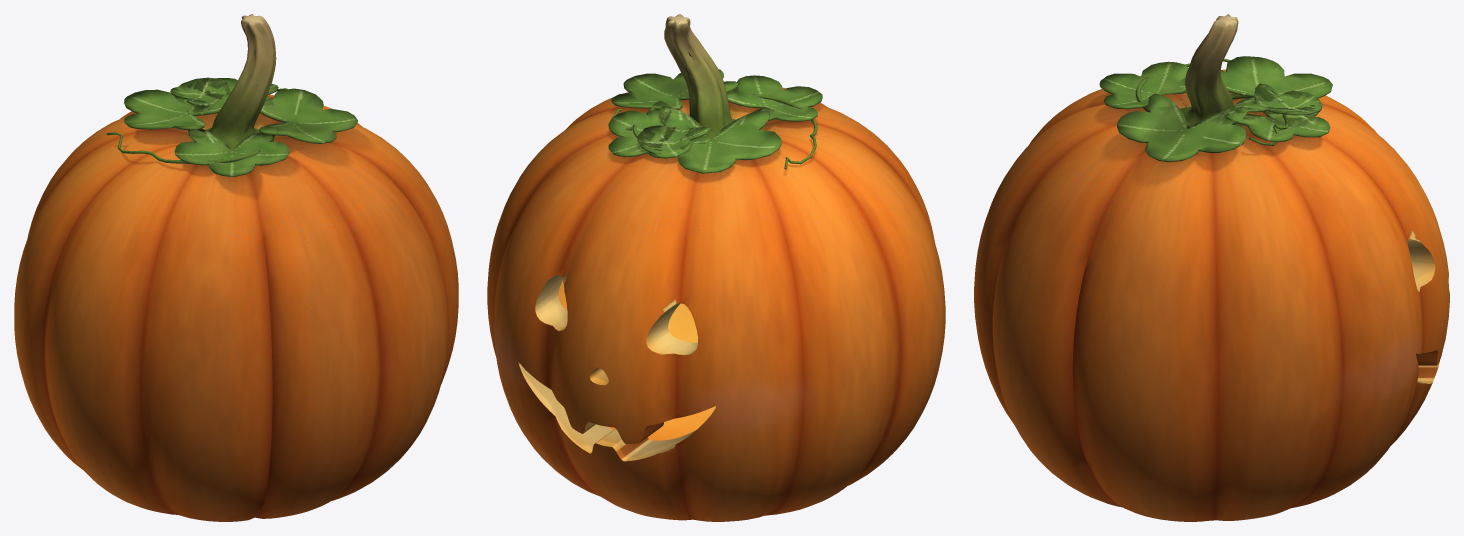
Rendered from giant_pumpkin.glb.
3 renders of one model, left to right at view 1: azimuth 30°, elevation 25°; view 2: azimuth 150°, elevation 25°; view 3: azimuth 270°, elevation 25°, orthographic. The views are drawn at different scales.
Visible parts, largest first — view 1: PumpkinShell, Leaves, GnarledStem, Vine; view 2: PumpkinShell, Leaves, GnarledStem, JackGlow, Vine; view 3: PumpkinShell, Leaves, GnarledStem.
Boxes of the visible parts, x1,y1,x2,y2 form: PumpkinShell: (14,94,458,521); Leaves: (124,77,357,176); GnarledStem: (206,14,276,150); Vine: (106,88,287,163); PumpkinShell: (487,87,945,521); Leaves: (608,69,822,173); GnarledStem: (664,14,735,139); JackGlow: (558,280,715,440); Vine: (612,94,817,169); PumpkinShell: (974,69,1449,521); Leaves: (1099,56,1332,162); GnarledStem: (1180,14,1241,129).
Size of the model in its own units: 26.98 by 30.15 by 27.34.
Materials: 1 (1 with a texture image).
